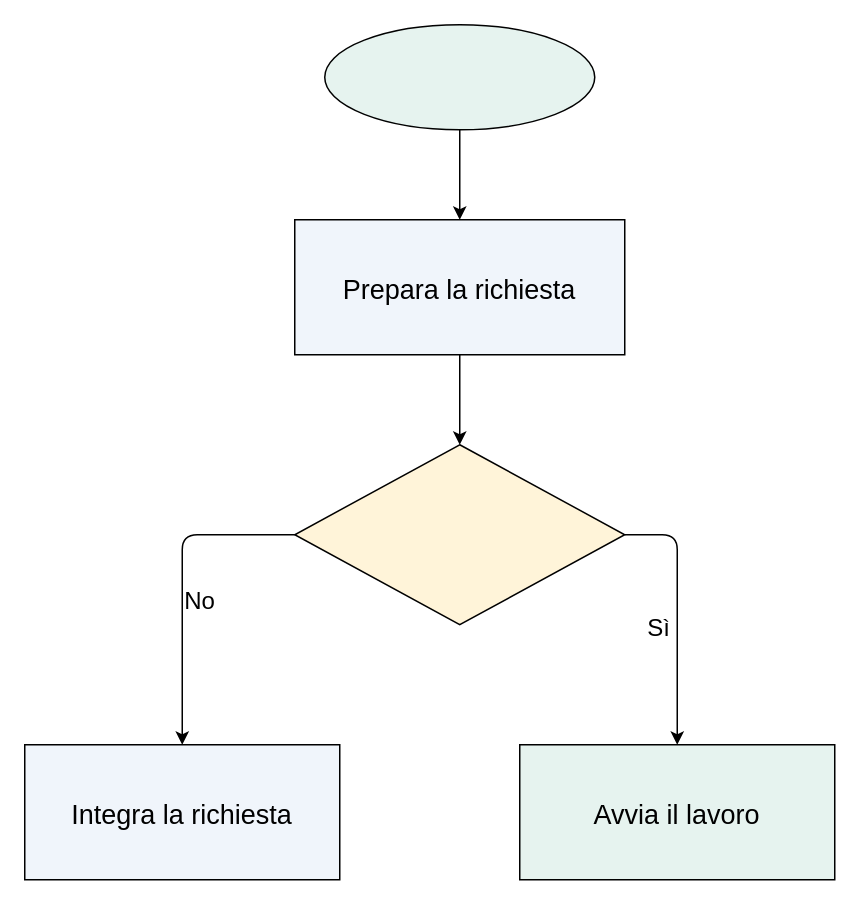
Some shapes in this 860 by 905 pixel diagram are drawn without their labels. The shapes that lost their labels are listed below. From the top down, each one's centre as x and y in pixels, then its label:
At pixel 459 76: "Inizio".
At pixel 459 534: "Approvata?".
